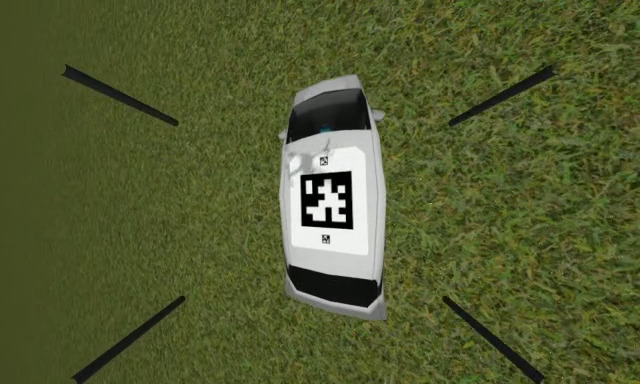Car: (276, 75, 393, 321)
Landing Pad: (288, 148, 369, 258)
